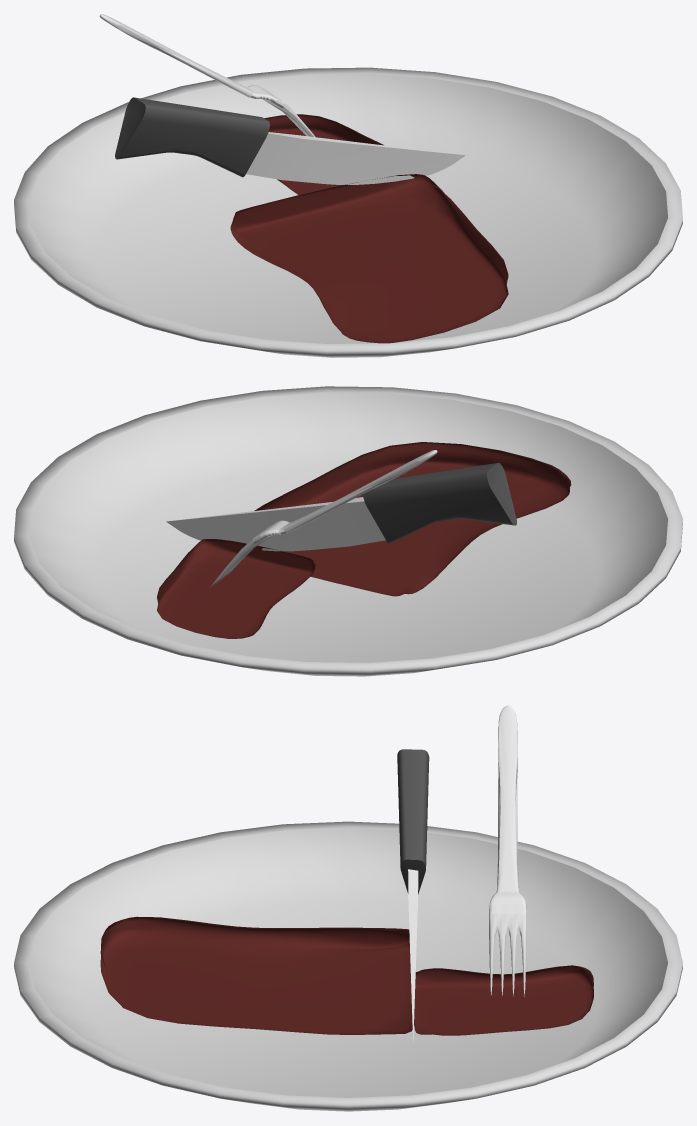
The model's file is Petour2small.glb.
The picture shows the model from 3 angles, top to bottom: view 1: azimuth 30°, elevation 25°; view 2: azimuth 150°, elevation 25°; view 3: azimuth 270°, elevation 25°; orthographic projection.
Visible parts, largest first — view 1: Cylinder.001, Cube.009, Cube.010, Cube.001, Cube.004, Cube.003; view 2: Cylinder.001, Cube.009, Cube.004, Cube.010, Cube.001, Cube.003; view 3: Cylinder.001, Cube.009, Cube.004, Cube.003, Cube.010, Cube.001.
Boxes of the visible parts, left/top/right/bottom form: Cylinder.001: left=14, top=67, right=682, bottom=357; Cube.009: left=230, top=174, right=508, bottom=343; Cube.010: left=115, top=97, right=269, bottom=177; Cube.001: left=246, top=132, right=465, bottom=184; Cube.004: left=264, top=114, right=383, bottom=206; Cube.003: left=99, top=14, right=315, bottom=137; Cylinder.001: left=14, top=386, right=682, bottom=676; Cube.009: left=254, top=442, right=571, bottom=596; Cube.004: left=157, top=539, right=315, bottom=638; Cube.010: left=363, top=462, right=516, bottom=543; Cube.001: left=166, top=497, right=385, bottom=551; Cube.003: left=209, top=450, right=437, bottom=588; Cylinder.001: left=14, top=821, right=682, bottom=1111; Cube.009: left=100, top=916, right=414, bottom=1034; Cube.004: left=414, top=965, right=593, bottom=1035; Cube.003: left=489, top=705, right=526, bottom=996; Cube.010: left=397, top=749, right=429, bottom=894; Cube.001: left=408, top=869, right=418, bottom=1042.
Size of what is drawn, in the model's own units: 1.74 by 0.6295 by 1.74.
